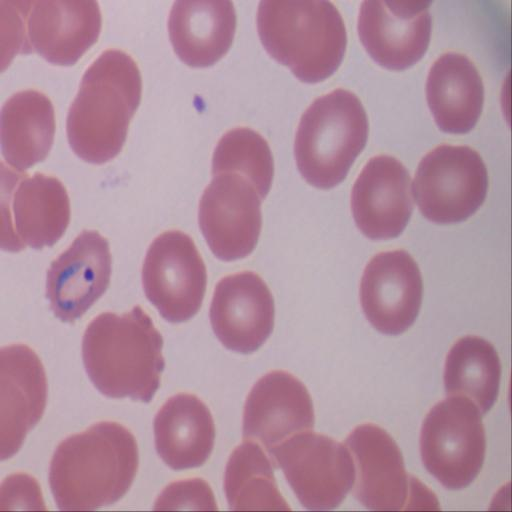Infected: (42, 229, 116, 323)
Uninfected: (84, 307, 164, 400), (296, 88, 368, 191), (273, 426, 353, 512), (244, 370, 314, 463), (413, 143, 490, 225), (336, 424, 406, 512), (420, 394, 485, 488), (144, 230, 207, 323), (210, 273, 277, 357), (351, 153, 414, 242), (356, 0, 434, 71), (197, 175, 261, 259), (68, 83, 133, 165), (49, 434, 117, 511), (287, 0, 347, 85), (153, 391, 216, 471), (256, 0, 330, 68), (29, 0, 103, 67), (361, 250, 420, 334), (11, 175, 75, 251), (82, 420, 140, 500), (212, 128, 273, 202), (427, 51, 482, 133), (170, 0, 236, 67), (82, 49, 143, 116), (222, 443, 280, 512), (447, 335, 498, 413)
